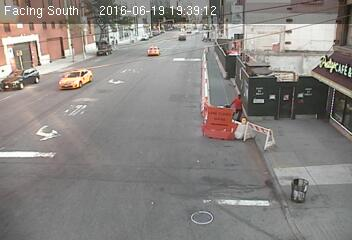neg: (196, 73, 216, 100), (197, 41, 217, 67), (204, 24, 216, 40)
pos: (228, 89, 252, 122)
